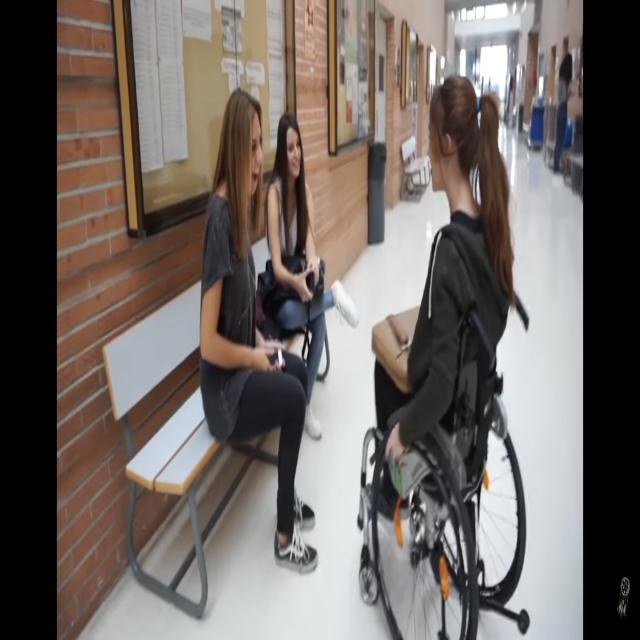wheelchairs: (358, 286, 536, 640)
